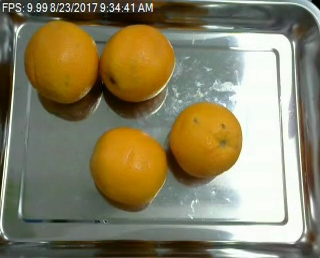Orange: (88, 126, 168, 207), (24, 21, 98, 101), (100, 24, 175, 102), (169, 102, 243, 179)
